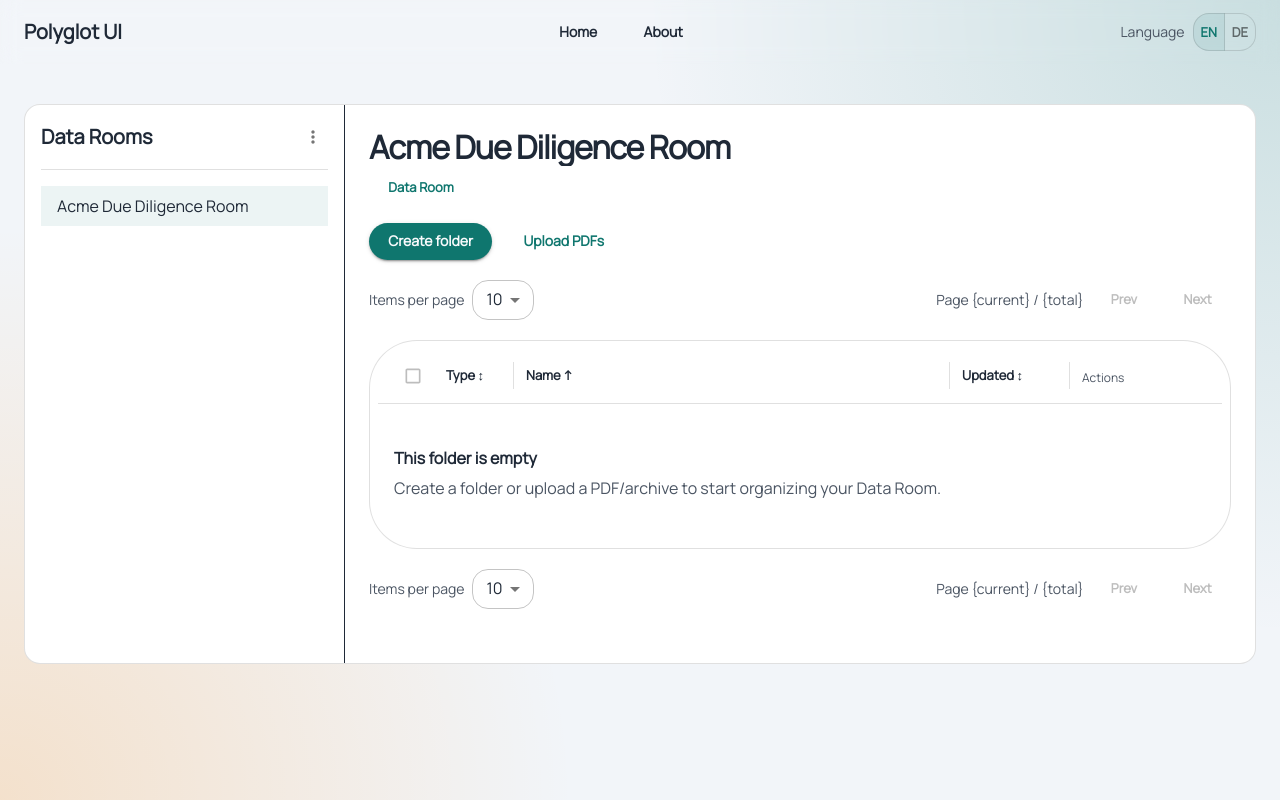
Test: App routing and localization › blocks creating a data room with duplicate name
Click the button named "Actions" at (313, 137), box [298,122,328,152]
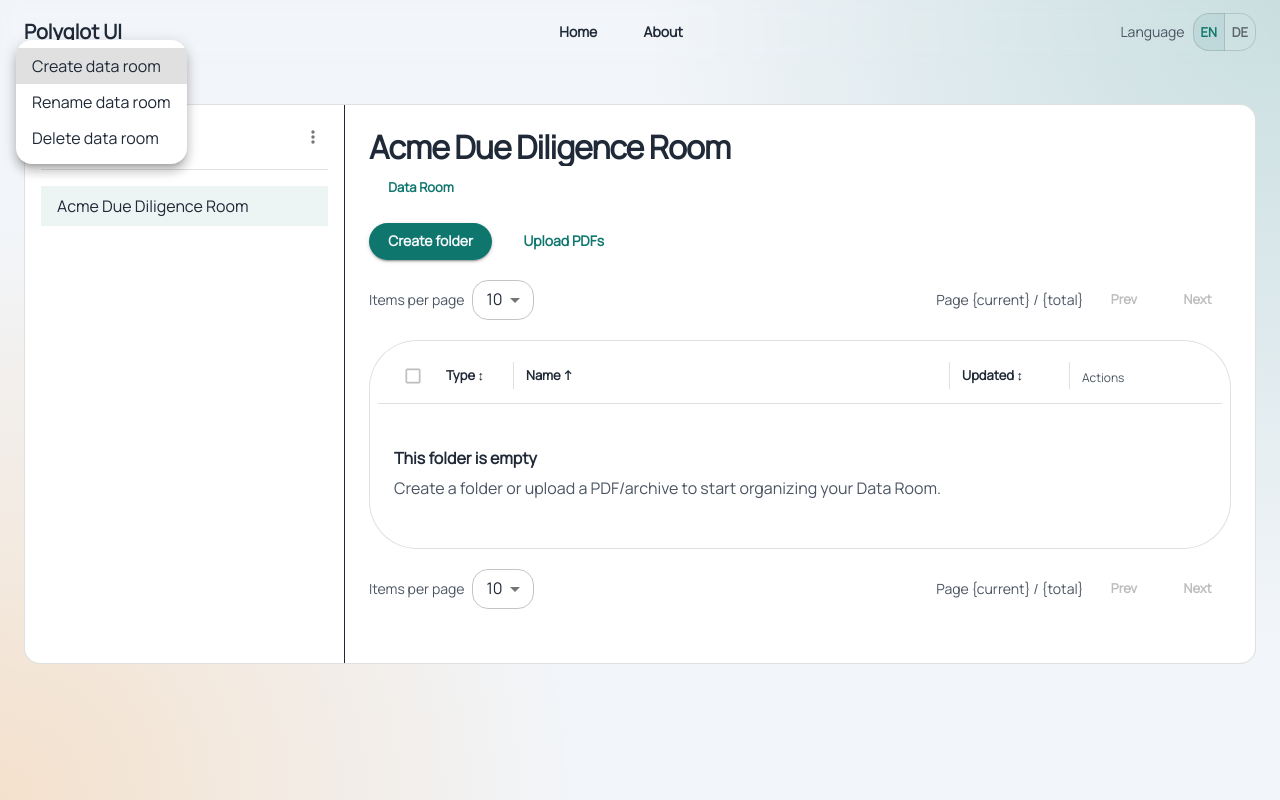
Click the menu item "Create data room" at (101, 66), box [16,48,187,84]
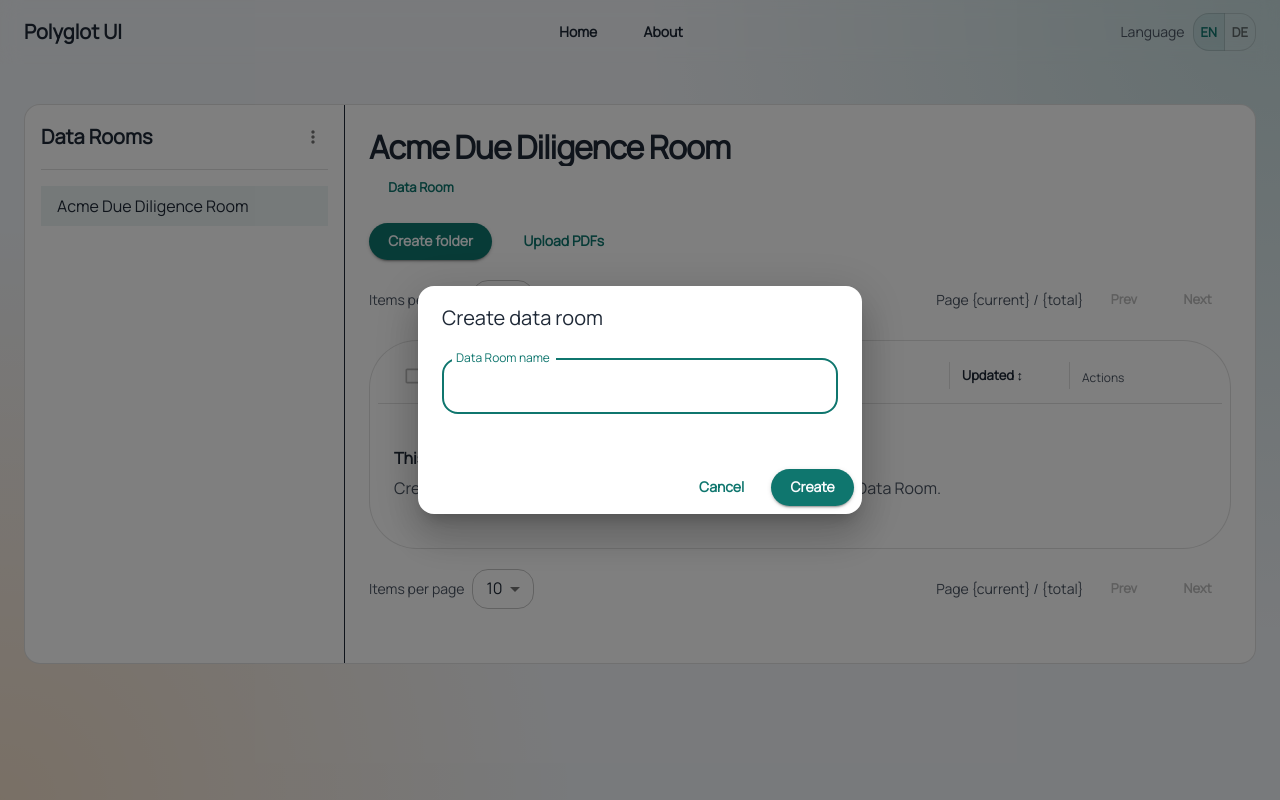
Type "Acme Due Diligence Room" into the field labelled "Data Room name" at (640, 386), box [442,358,838,414]
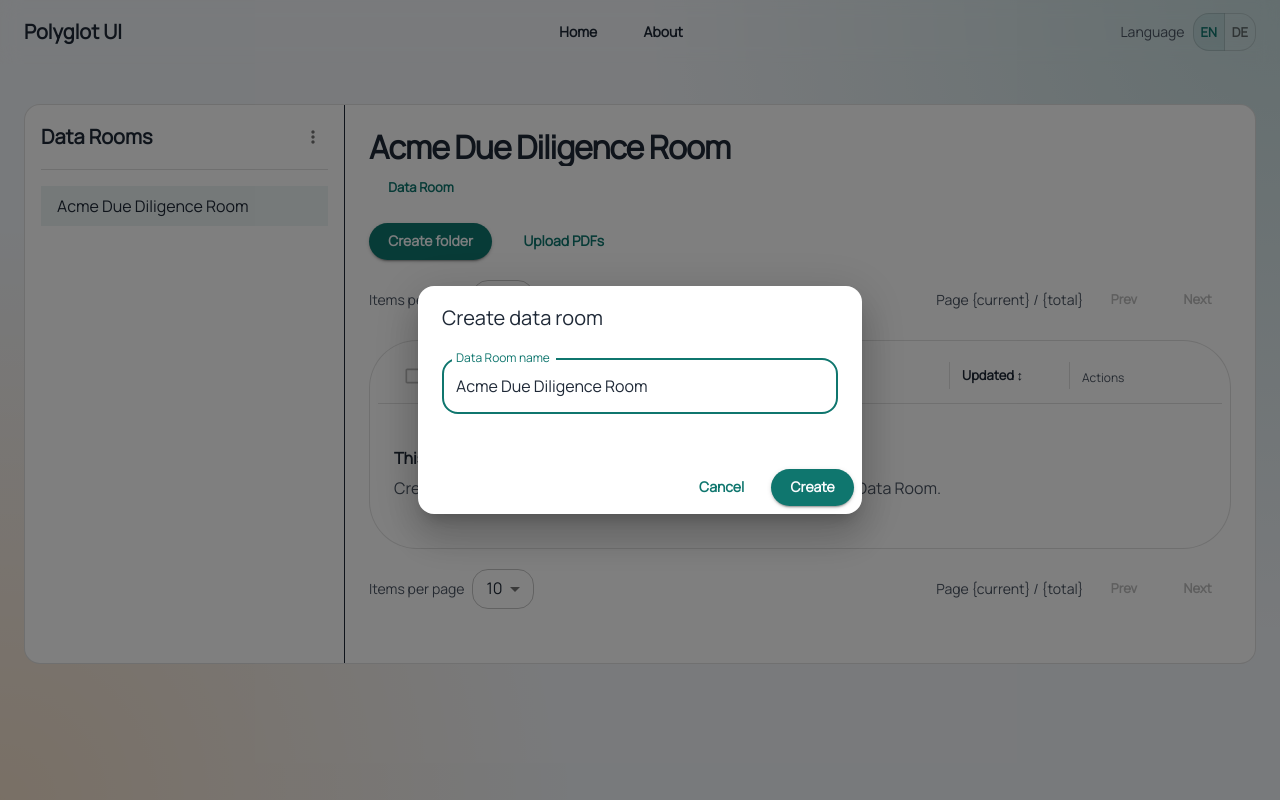
Click the button "Create" at (813, 487), box [771,469,854,506]
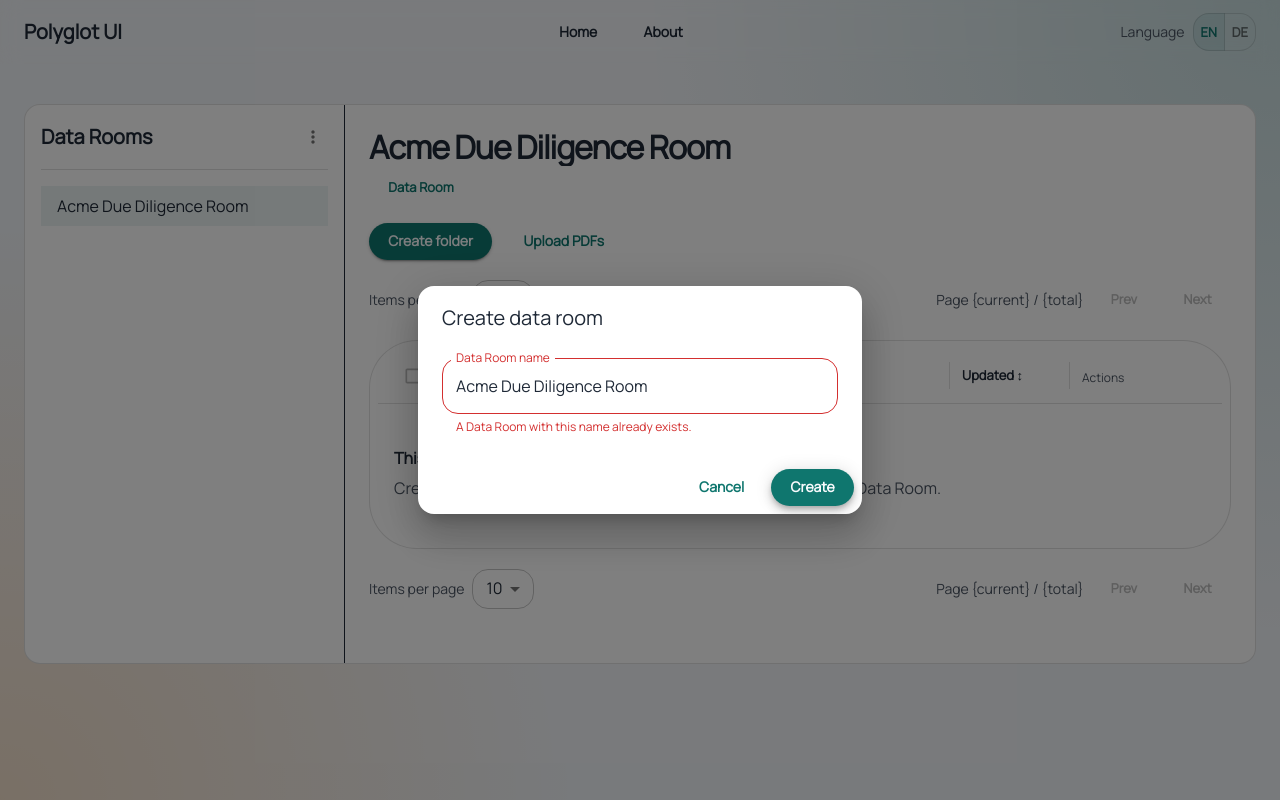
Expected: the dialog "Create data room" is shown, [418,286,862,514]
Expected: the text "A Data Room with this name already exists." is shown, [456,418,692,435]
